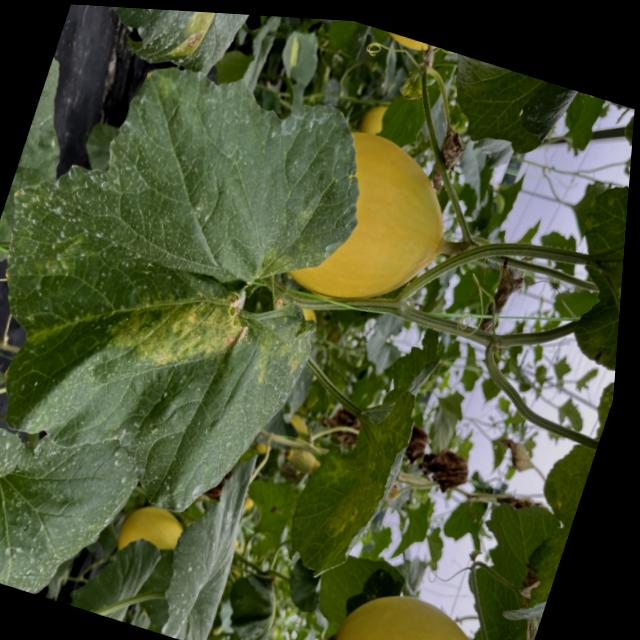CMV: (491, 443, 594, 640)
alternaria leaf blight: (0, 46, 388, 517), (59, 4, 267, 87)
bacterial wilt: (474, 262, 522, 342), (426, 131, 468, 190)
downy mildew: (272, 379, 421, 594), (544, 104, 635, 403)
healthy: (422, 51, 590, 191)
powdery mildew: (0, 379, 159, 616), (149, 428, 271, 640)
